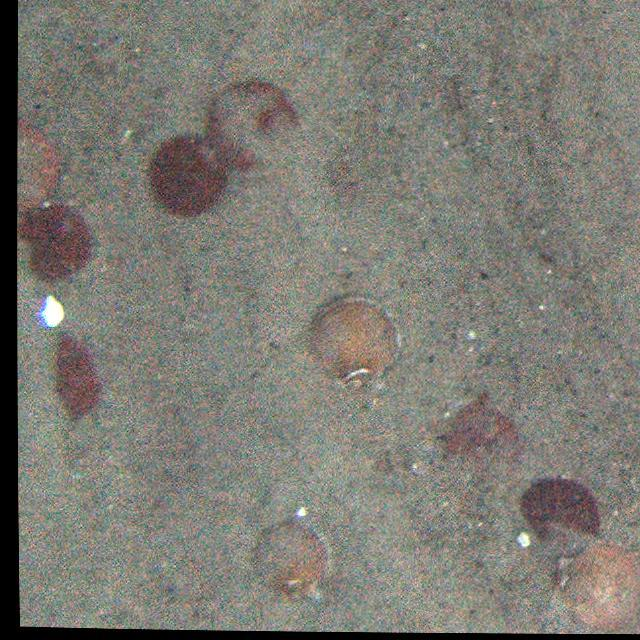scallop: (304, 292, 408, 396), (251, 519, 338, 598)
